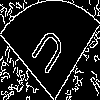U: (25, 25, 67, 84)
